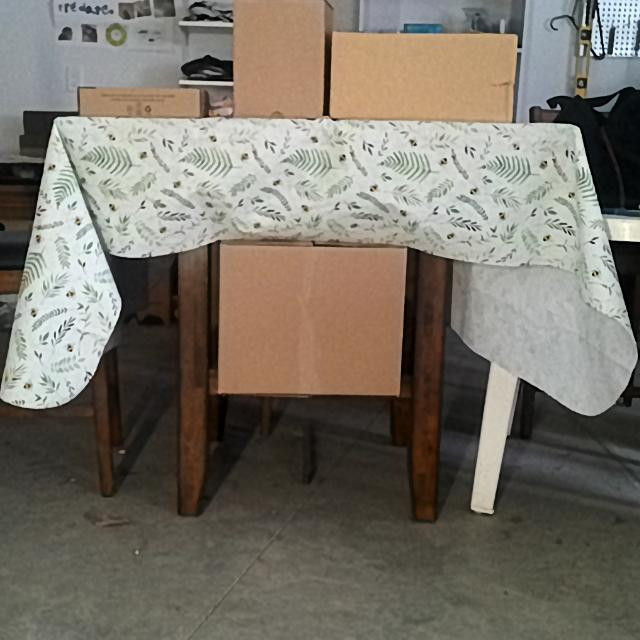box: (219, 250, 405, 394), (331, 33, 516, 118), (233, 0, 323, 118), (79, 86, 200, 117)
